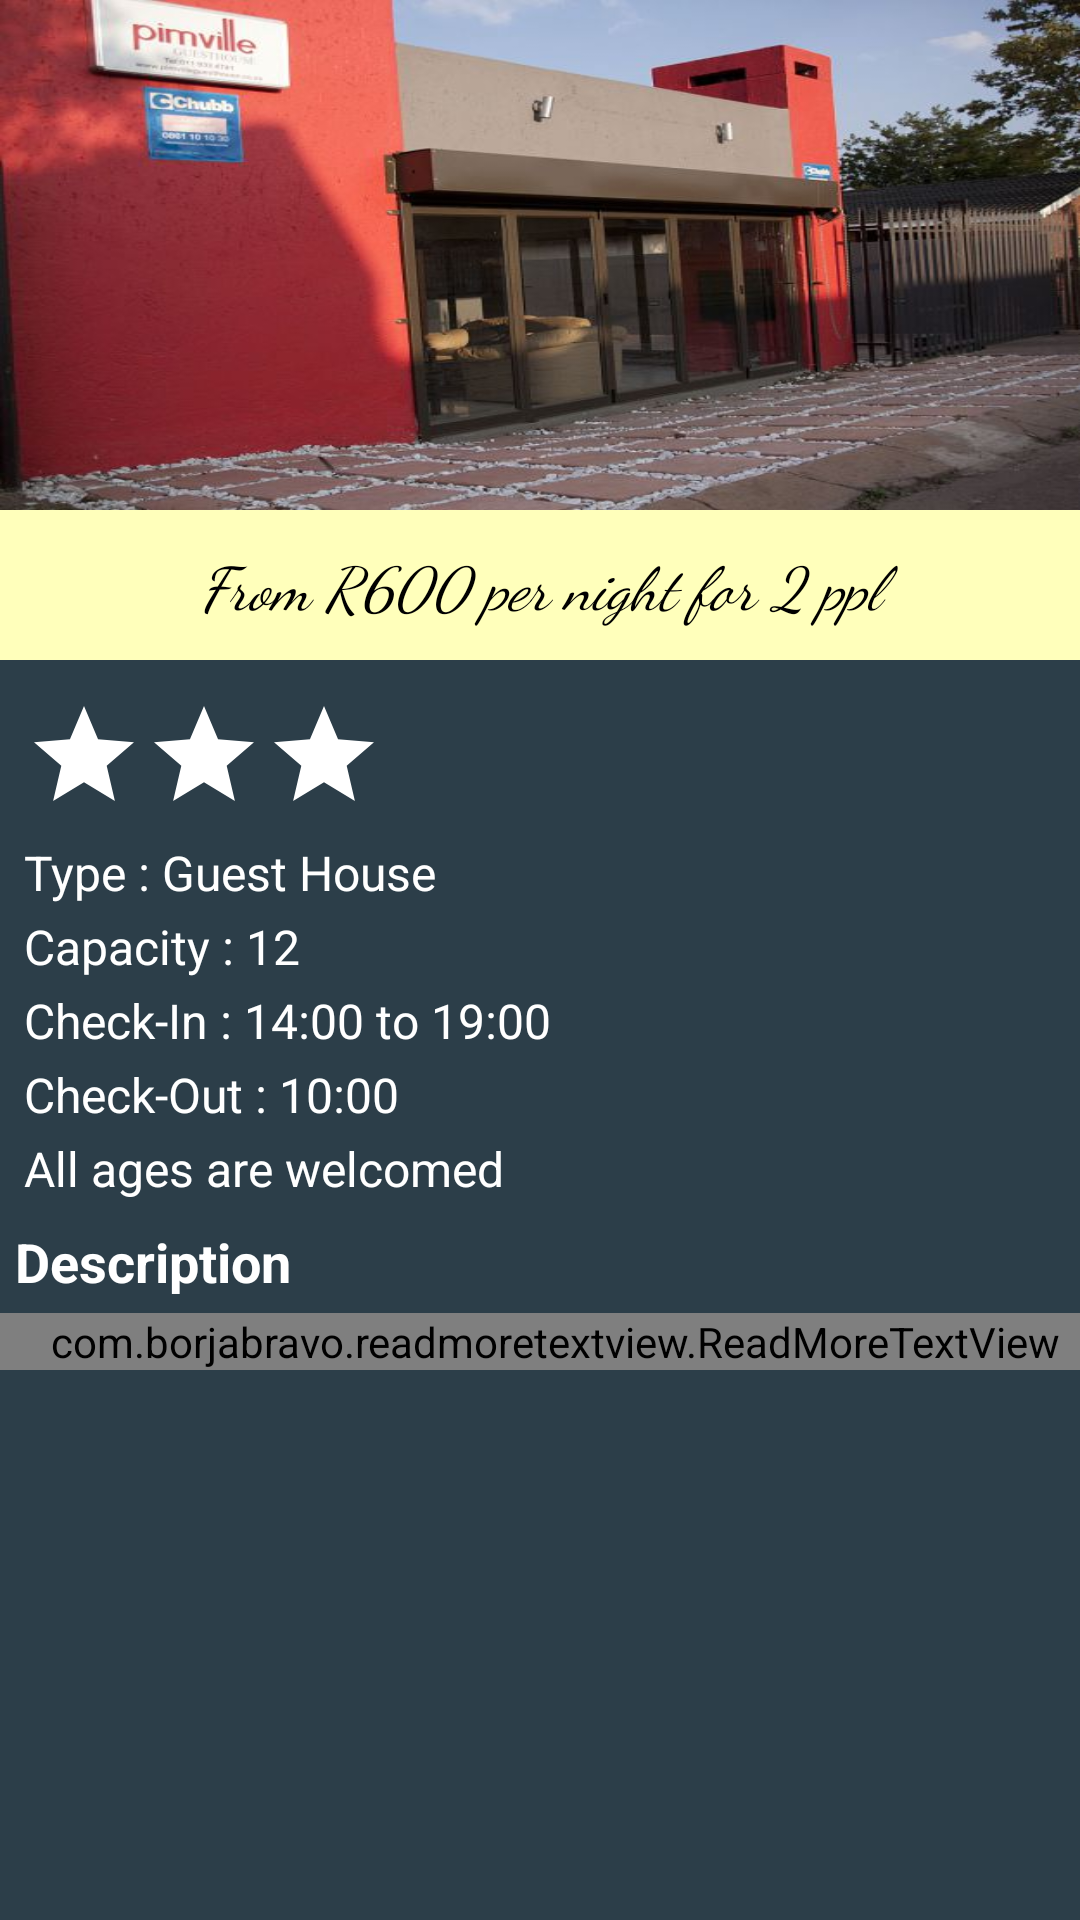

Screen size 1080×1920. Icon name, then its box in pixels as (x1, y1, x2, y2):
star: (34, 706, 134, 801), (154, 706, 254, 801), (274, 706, 374, 801)
